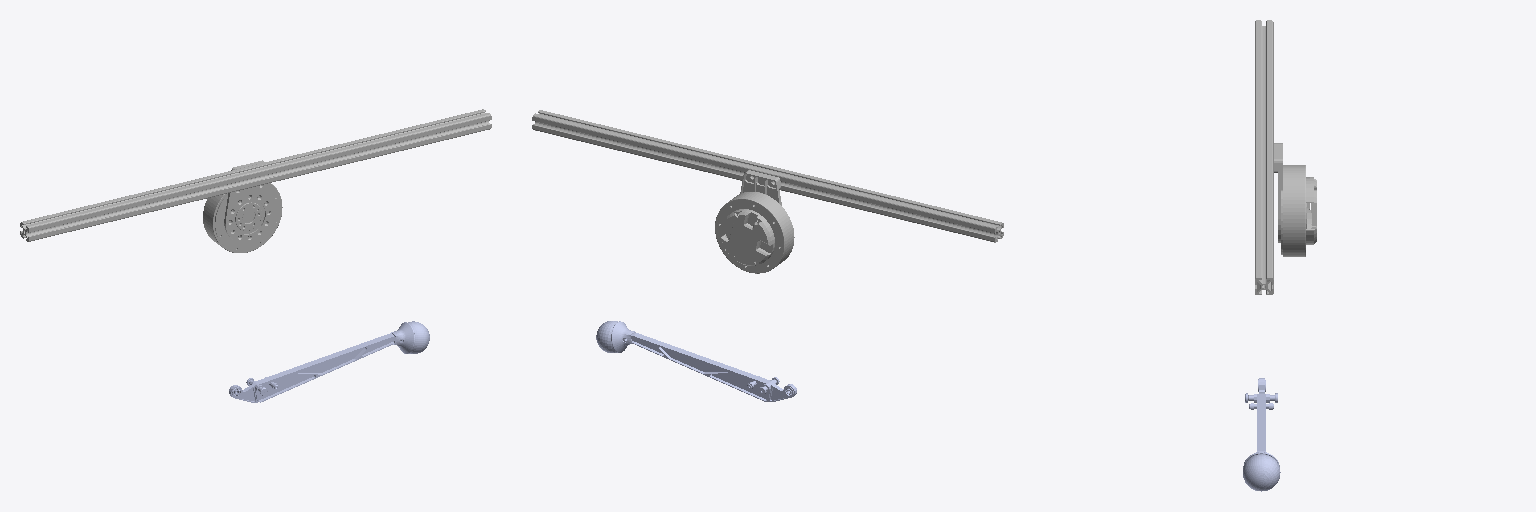
URDF robot description (leg_foot):
<?xml version="1.0" encoding="utf-8"?>
<!-- This URDF was automatically created by SolidWorks to URDF Exporter! Originally created by [author] ([email redacted]) 
     Commit Version: 1.6.0-4-g7f85cfe  Build Version: 1.6.7995.38578
     For more information, please see http://wiki.ros.org/sw_urdf_exporter -->
<robot
  name="leg_foot">

  <mujoco>
    <compiler meshdir="meshes" discardvisual="false" />
  </mujoco>

  <!-- [CAUTION] uncomment when convert to mujoco -->
  <link name="world"></link>
  <joint name="floating_base_joint" type="floating">
    <parent link="world" />
    <child link="base_link" />
  </joint>


  <link
    name="base_link">
    <inertial>
      <origin
        xyz="-3.47977543608903E-05 0.0283416675738976 0.0123233505852236"
        rpy="0 0 0" />
      <mass
        value="0.691606304075024" />
      <inertia
        ixx="0.000386049953446763"
        ixy="-6.78391646402114E-08"
        ixz="4.84589514584373E-07"
        iyy="0.00516450436448171"
        iyz="2.0794171866617E-06"
        izz="0.00483980418811997" />
    </inertial>
    <visual>
      <origin
        xyz="0 0 0"
        rpy="0 0 0" />
      <geometry>
        <mesh
          filename="meshes/base_link.STL" />
      </geometry>
      <material
        name="">
        <color
          rgba="0.752941176470588 0.752941176470588 0.752941176470588 1" />
      </material>
    </visual>
    <collision>
      <origin
        xyz="0 0.0025 0.0625"
        rpy="0 0 0" />
      <geometry>
        <box size="0.650 0.02 0.02" />
      </geometry>
    </collision>
  </link>

  <link
    name="Thigh">
    <inertial>
      <origin
        xyz="-0.00266508662940908 -0.0210989064707258 -0.0184404554474768"
        rpy="0 0 0" />
      <mass
        value="0.680521373875353" />
      <inertia
        ixx="0.00121567934619546"
        ixy="-8.04795249548652E-08"
        ixz="-2.39428779088441E-05"
        iyy="0.0015642418763912"
        iyz="-2.317864963667E-06"
        izz="0.000404763200727095" />
    </inertial>
    <visual>
      <origin
        xyz="0 0 0"
        rpy="0 0 0" />
      <geometry>
        <mesh
          filename="meshes/Thigh.STL" />
      </geometry>
      <material
        name="">
        <color
          rgba="0.776470588235294 0.756862745098039 0.737254901960784 1" />
      </material>
    </visual>
    <collision>
      <origin
        xyz="-.017 0 -.085"
        rpy="0 0 0" />
      <geometry>
        <box
          size=".06 .03 .18" />
      </geometry>
    </collision>
    <!-- <collision>
      <origin
        xyz="0 0 -.22"
        rpy="1.57079632679 0 0" />
      <geometry>
        <cylinder
          radius=".015"
          length=".03"/>
      </geometry>
    </collision> -->
  </link>
  <joint
    name="Thigh_joint"
    type="revolute">
    <origin
      xyz="0 0 0"
      rpy="0 0 0" />
    <parent
      link="base_link" />
    <child
      link="Thigh" />
    <axis
      xyz="0 -1 0" />
    <limit
      lower="-1.6"
      upper="1.7"
      effort="20"
      velocity="50" />
  </joint>
  <link
    name="Shank">
    <inertial>
      <origin
        xyz="0.00917157947139449 -7.73256057344934E-05 -0.104282712433589"
        rpy="0 0 0" />
      <mass
        value="0.0613493769638906" />
      <inertia
        ixx="0.000162590011682181"
        ixy="-5.22060513442253E-13"
        ixz="2.1590034158762E-05"
        iyy="0.000166902322129974"
        iyz="2.5903764598634E-12"
        izz="8.47092575333008E-06" />
    </inertial>
    <visual>
      <origin
        xyz="0 0 0"
        rpy="0 0 0" />
      <geometry>
        <mesh
          filename="meshes/Shank.STL" />
      </geometry>
      <material
        name="">
        <color
          rgba="0.792156862745098 0.819607843137255 0.933333333333333 1" />
      </material>
    </visual>
    <collision>
      <origin
        xyz="0.01 0 -.11"
        rpy="0 -.13 0" />
      <geometry>
        <box
          size=".02 .01 .22" />
      </geometry>
    </collision>
  </link>
  <joint
    name="Knee"
    type="revolute">
    <origin
      xyz="0 0 -0.22"
      rpy="0 0 0" />
    <parent
      link="Thigh" />
    <child
      link="Shank" />
    <axis
      xyz="0 -1 0" />
    <limit
      lower="0.4"
      upper="2.7"
      effort="20"
      velocity="50" />
  </joint>
  <link
    name="Foot">
    <inertial>
      <origin
        xyz="-0.000157588246564852 -0.000249999999999927 -0.000893727131991484"
        rpy="0 0 0" />
      <mass
        value="0.0122961553899727" />
      <inertia
        ixx="2.77121697559683E-06"
        ixy="3.00161723760695E-22"
        ixz="3.36395945862693E-08"
        iyy="2.76528540592917E-06"
        iyz="-2.39927349078762E-22"
        izz="2.95606497817254E-06" />
    </inertial>
    <visual>
      <origin
        xyz="0 0 0"
        rpy="0 0 0" />
      <geometry>
        <sphere
          radius=".02" />
      </geometry>
      <material
        name="">
        <color
          rgba="0.792156862745098 0.819607843137255 0.933333333333333 1" />
      </material>
    </visual>
    <collision>
      <origin
        xyz="0 0 0"
        rpy="0 0 0" />
      <geometry>
        <sphere
          radius=".02" />
      </geometry>
    </collision>
  </link>
  <joint
    name="Foot"
    type="fixed">
    <origin
      xyz="0.019174 0 -0.21916"
      rpy="0 0 0" />
    <parent
      link="Shank" />
    <child
      link="Foot" />
    <axis
      xyz="0 0 0" />
  </joint>
  <!-- <link
    name="Motor_Link">
    <inertial>
      <origin
        xyz="0.00395357790501902 -0.00234440568910882 0.0187718741637707"
        rpy="0 0 0" />
      <mass
        value="0.0222079246214103" />
      <inertia
        ixx="3.91017494902813E-06"
        ixy="-2.87613164898245E-07"
        ixz="-4.42573870378198E-07"
        iyy="4.38691350134679E-06"
        iyz="-8.31176234515052E-07"
        izz="2.18821875511214E-06" />
    </inertial>
    <visual>
      <origin
        xyz="0 0 0"
        rpy="0 0 0" />
      <geometry>
        <mesh
          filename="meshes/Motor_Link.STL" />
      </geometry>
      <material
        name="">
        <color
          rgba="0.898039215686275 0.917647058823529 0.929411764705882 1" />
      </material>
    </visual>
  </link> -->
  <!-- <joint
    name="Link_motor"
    type="continuous">
    <origin
      xyz="0 0 0"
      rpy="0 0 0" />
    <parent
      link="Thigh" />
    <child
      link="Motor_Link" />
    <axis
      xyz="0 -1 0" />
    <limit
      lower="0"
      upper="0"
      effort="0"
      velocity="0" />
    <mimic
      joint="Knee"
      multiplier="1"
      offset="0" />
  </joint>
  <link
    name="Coupler">
    <inertial>
      <origin
        xyz="9.50993348966337E-06 -1.67884145407769E-05 -0.0867292192272435"
        rpy="0 0 0" />
      <mass
        value="0.0528510354438987" />
      <inertia
        ixx="9.06299886209819E-05"
        ixy="1.58290244825201E-09"
        ixz="2.35359658161304E-14"
        iyy="9.08298046998882E-05"
        iyz="-7.81221840631517E-09"
        izz="1.59142375463209E-06" />
    </inertial>
    <visual>
      <origin
        xyz="0 0 0"
        rpy="0 0 0" />
      <geometry>
        <mesh
          filename="meshes/Coupler.STL" />
      </geometry>
      <material
        name="">
        <color
          rgba="0.647058823529412 0.619607843137255 0.588235294117647 1" />
      </material>
    </visual>
  </link> -->
  <!-- <joint
    name="Link_coupler"
    type="continuous">
    <origin
      xyz="0 0 0.03"
      rpy="0 0 0" />
    <parent
      link="Motor_Link" />
    <child
      link="Coupler" />
    <axis
      xyz="0 -1 0" />
    <limit
      lower="0"
      upper="0"
      effort="0"
      velocity="0" />
    <mimic
      joint="Knee"
      multiplier="-1"
      offset="0" />
  </joint> -->
</robot>

--- Render facts (derived) ---
3 views of the same robot in one strip: view 1: azimuth 30°, elevation 25°; view 2: azimuth 150°, elevation 25°; view 3: azimuth 270°, elevation 25° (orthographic).
Model leg_foot with 5 links and 4 joints (2 revolute, 1 fixed, 1 floating), rooted at world, posed all joints at 0 but 1 set to mid-range because 0 is outside their limits (Knee = 1.55).
Visible links, largest first — view 1: base_link, Shank; view 2: base_link, Shank; view 3: base_link, Shank.
Boxes of the visible links, x1,y1,x2,y2 form: base_link: [20, 109, 491, 252]; Shank: [229, 321, 429, 402]; base_link: [532, 110, 1003, 273]; Shank: [599, 321, 796, 401]; base_link: [1255, 20, 1316, 294]; Shank: [1243, 378, 1279, 491].
Bounding box of the posed robot: 0.65 × 0.0792 × 0.3123 m (x, y, z).
Meshes: 3 distinct files referenced, 2 mesh visuals loaded (2 binary STL); not drawn: 1 (reference not matched to a file when rendering).